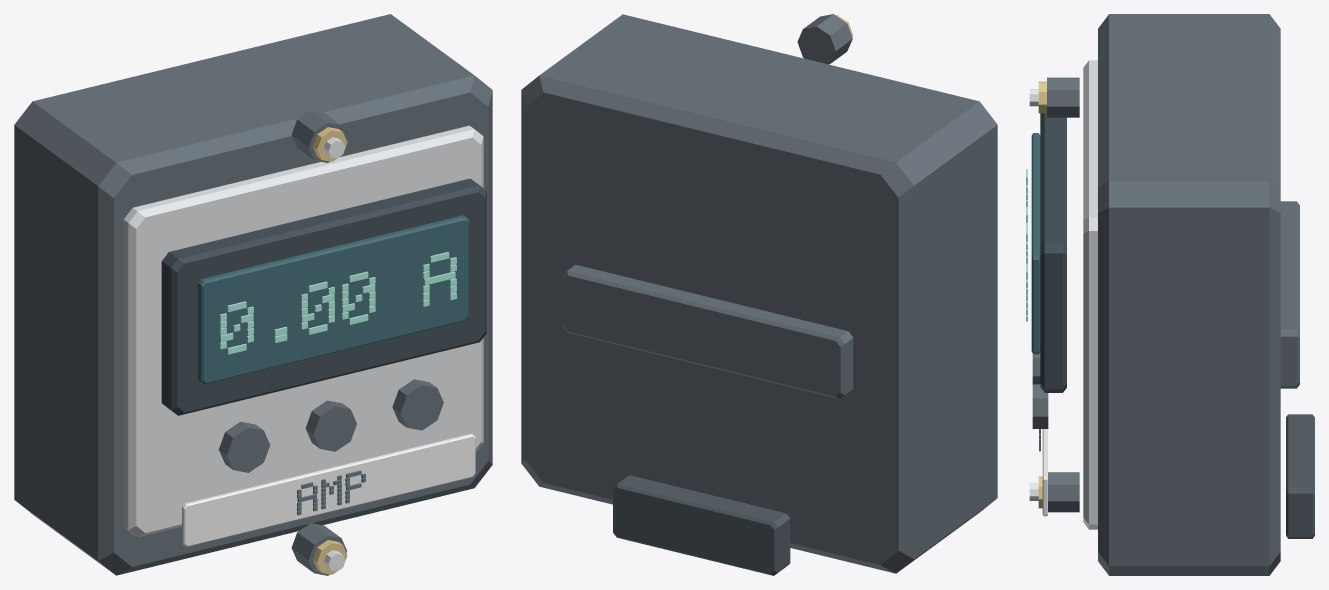
The model's file is ammeter.glb.
3 views of the same model, side by side, from view 1: azimuth 30°, elevation 25°; view 2: azimuth 150°, elevation 25°; view 3: azimuth 270°, elevation 25° (orthographic). The views are drawn at different scales.
Parts seen in each view (by area): view 1: ammeter-board; view 2: ammeter-board; view 3: ammeter-board.
Boxes of the visible parts, bbox=[...] form: ammeter-board: bbox=[14, 14, 492, 575]; ammeter-board: bbox=[521, 14, 997, 575]; ammeter-board: bbox=[1026, 14, 1314, 575].
Bounding box in the file's own units: 1.96 × 2.15 × 1.3.
